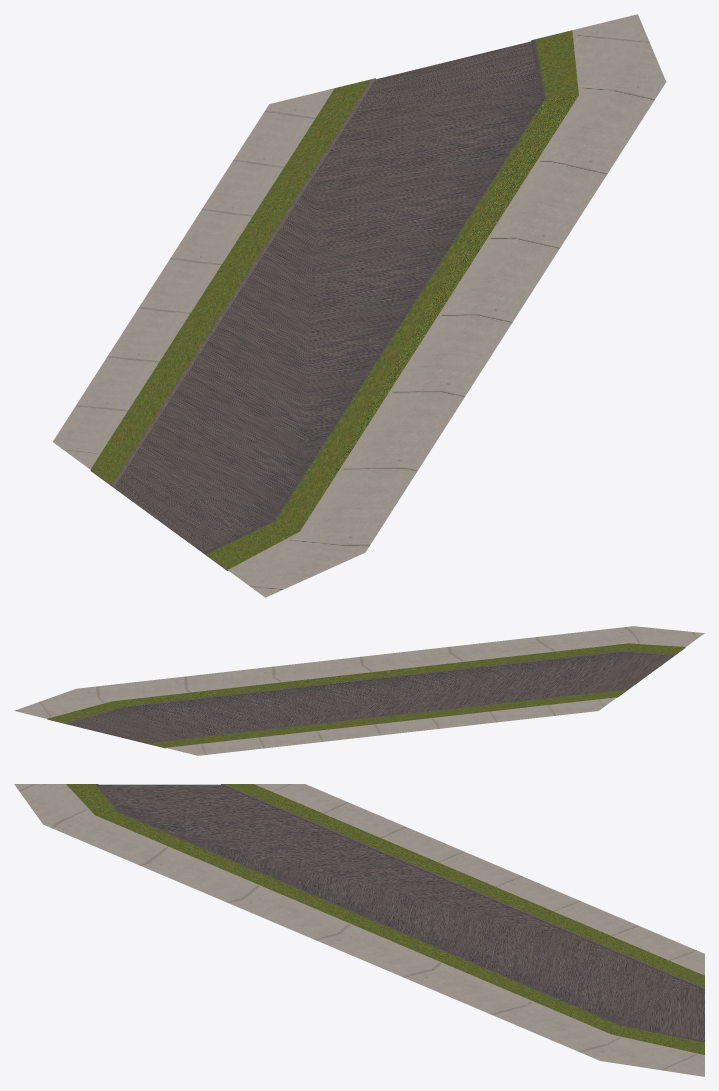
File: TurnRoadNew2.fbx
The picture shows the model from 3 angles, top to bottom: view 1: azimuth 30°, elevation 25°; view 2: azimuth 150°, elevation 25°; view 3: azimuth 270°, elevation 25°; orthographic projection. The views are drawn at different scales.
Parts seen in each view (by area): view 1: SM_Road_01_2.001; view 2: SM_Road_01_2.001; view 3: SM_Road_01_2.001.
Boxes of the visible parts, box(x1,y1,x2,y2) form: SM_Road_01_2.001: box(53, 14, 666, 597); SM_Road_01_2.001: box(14, 626, 704, 755); SM_Road_01_2.001: box(14, 784, 704, 1076).
Bounding box in the file's own units: 15470 × 19.13 × 15419.
